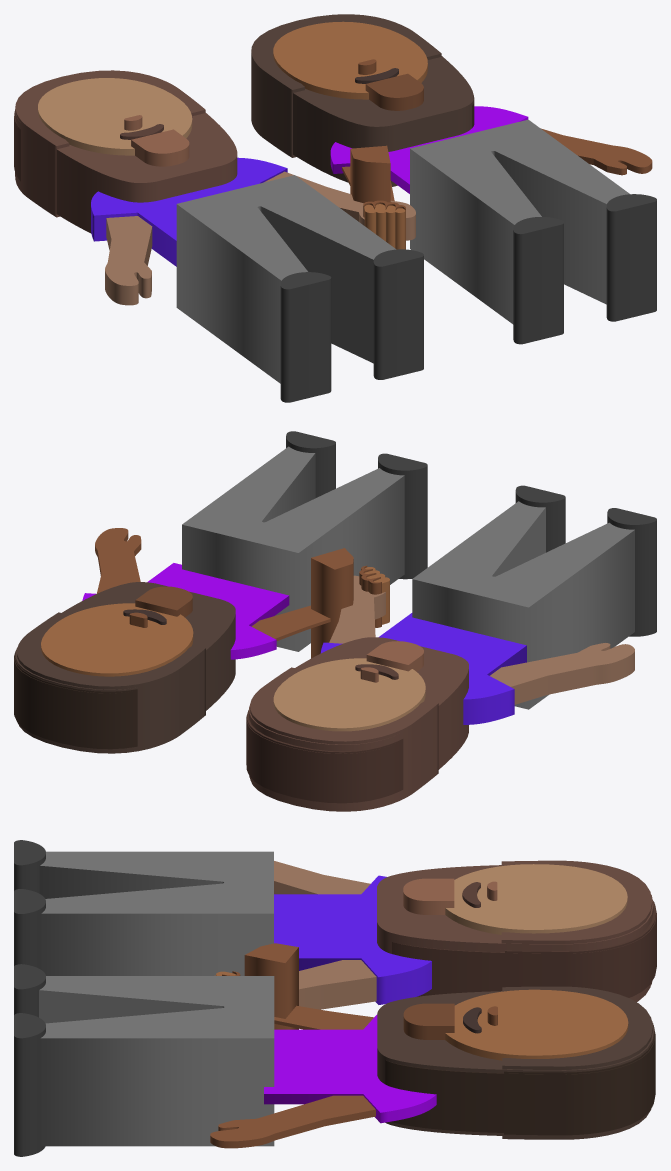
File: emoji_u1f469_1f3fd_200d_1f91d_200d_1f469_1f3fe.glb
3 renders of one model, top to bottom at view 1: azimuth 30°, elevation 25°; view 2: azimuth 150°, elevation 25°; view 3: azimuth 270°, elevation 25°, orthographic. The views are drawn at different scales.
Parts seen in each view (by area): view 1: emoji_u1f469_1f3fd_200d_1f91d_200d_1f469_1f3fe; view 2: emoji_u1f469_1f3fd_200d_1f91d_200d_1f469_1f3fe; view 3: emoji_u1f469_1f3fd_200d_1f91d_200d_1f469_1f3fe.
Part boxes in pixels (box(x1,y1,x2,y2)): emoji_u1f469_1f3fd_200d_1f91d_200d_1f469_1f3fe: box(14, 14, 656, 402); emoji_u1f469_1f3fd_200d_1f91d_200d_1f469_1f3fe: box(14, 431, 656, 811); emoji_u1f469_1f3fd_200d_1f91d_200d_1f469_1f3fe: box(14, 840, 656, 1156).
Bounding box in the file's own units: 0.0346 × 0.007 × 0.0334.
